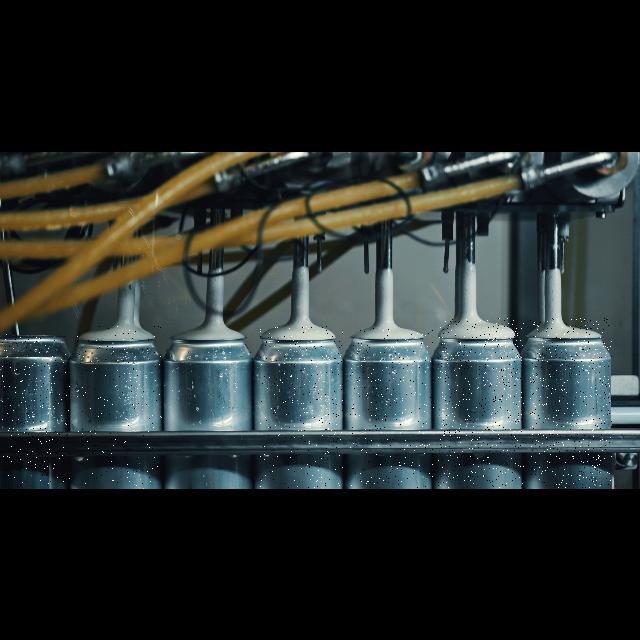empty: (2, 334, 70, 484)
full: (438, 318, 524, 488), (530, 318, 612, 488), (77, 326, 163, 486), (170, 326, 254, 488), (260, 326, 344, 488), (350, 328, 434, 488)
